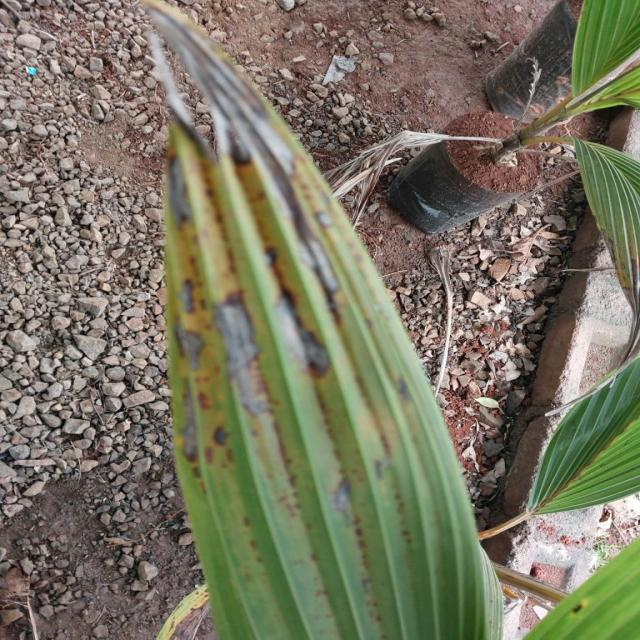gray leaf spot: (146, 1, 487, 639)
